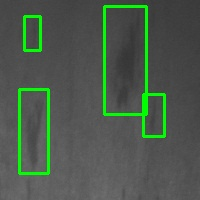inclusion: (104, 6, 146, 114), (19, 89, 48, 173), (143, 94, 164, 136), (24, 16, 40, 50)
